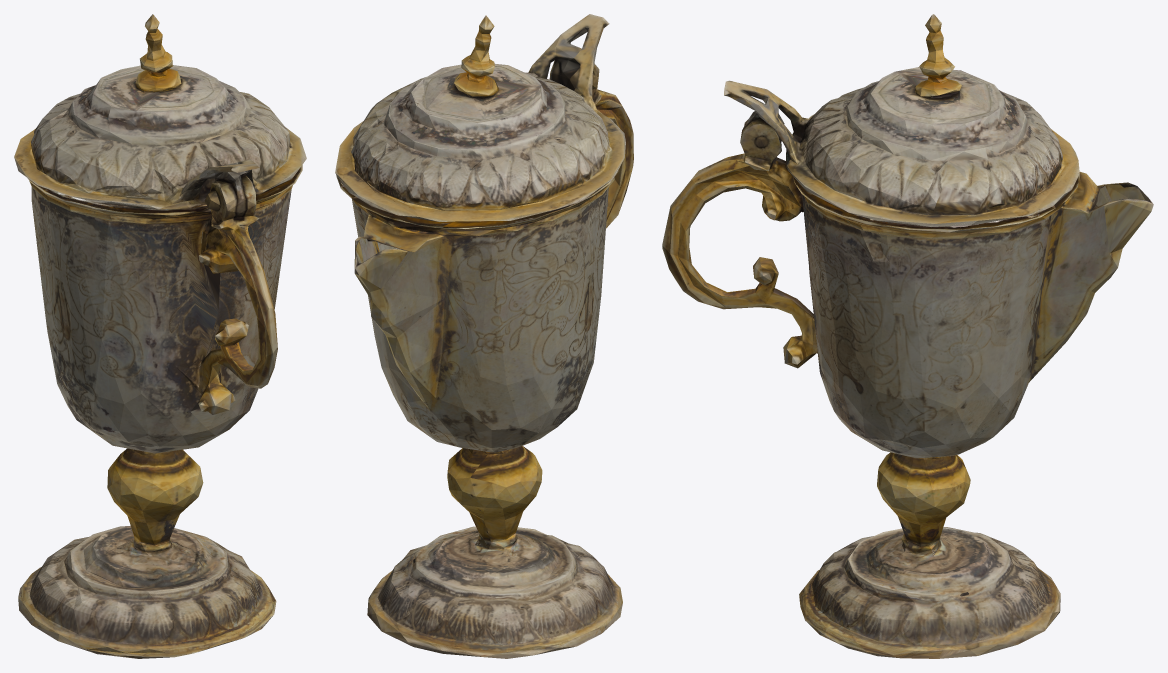
File: cup_golden.glb
3 views of the same model, side by side, from view 1: azimuth 30°, elevation 25°; view 2: azimuth 150°, elevation 25°; view 3: azimuth 270°, elevation 25° (orthographic).
Visible parts, largest first — view 1: base; view 2: base; view 3: base.
Boxes of the visible parts, x1,y1,x2,y2 form: base: (14, 14, 306, 658); base: (335, 14, 633, 658); base: (662, 14, 1153, 658).
Size of the model in its own units: 11.49 by 25.61 by 19.13.
Materials: 1 (1 with a texture image).
